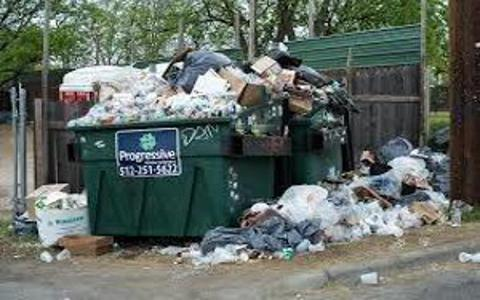overflowing garbage: (86, 89, 346, 264)
